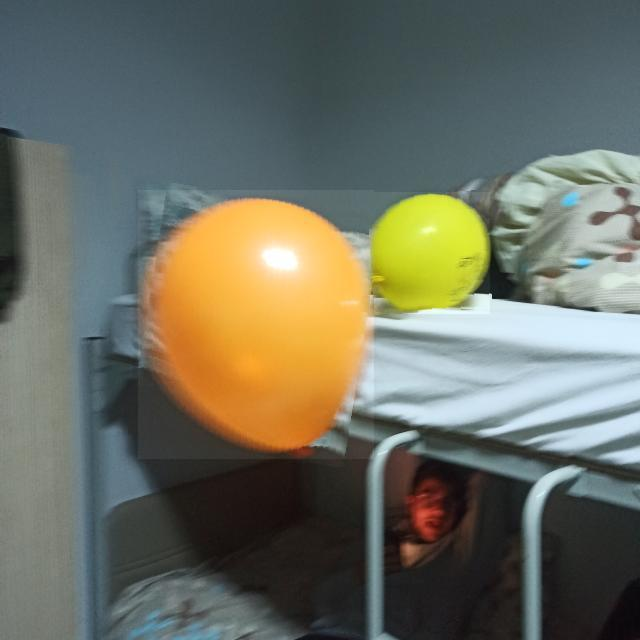balloon: (138, 190, 374, 459), (369, 192, 490, 314)
